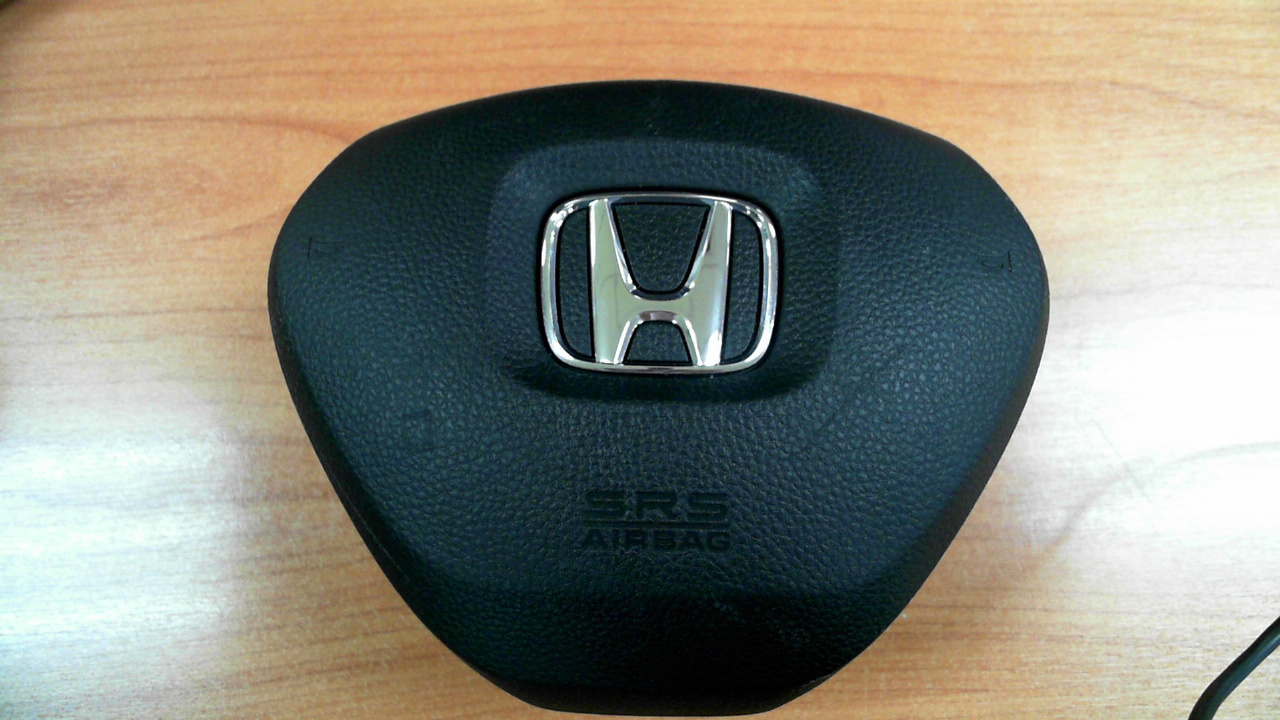Airbag: (267, 79, 1053, 717)
Honda: (540, 193, 779, 375)
